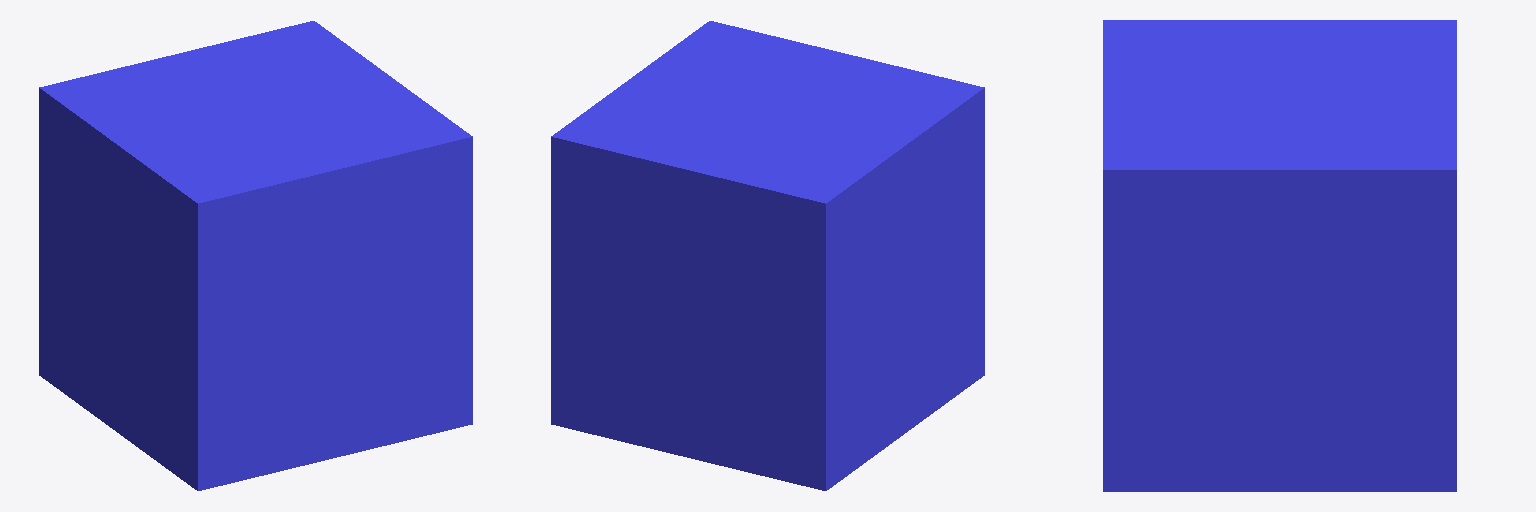
robot.urdf — box.urdf:
<?xml version="0.0" ?>
<robot name="box.urdf">
  <link name="baseLink">
    <contact>
      <lateral_friction value="1.0"/>
      <rolling_friction value="0.0001"/>
      <inertia_scaling value="3.0"/>
    </contact>
    <inertial>
      <origin rpy="0 0 0" xyz="0 0 0"/>
       <mass value=".1"/>
       <inertia ixx="1" ixy="0" ixz="0" iyy="1" iyz="0" izz="1"/>
    </inertial>
    <visual>
      <origin rpy="0 0 0" xyz="0 0 0"/>
      <geometry>
         <box size="0.06 0.06 0.06"/>
      </geometry>
      <material name="green">
        <color rgba="0.3412 0.3490 1 1"/>
      </material>
    </visual>
    <collision>
      <origin rpy="0 0 0" xyz="0 0 0"/>
      <geometry>
	 	    <box size="0.06 0.06 0.06"/>
      </geometry>
    </collision>
  </link>
</robot>

--- Facts derived from the render (not from the file) ---
Views: 3 orthographic renders of the robot side by side, from view 1: azimuth 30°, elevation 25°; view 2: azimuth 150°, elevation 25°; view 3: azimuth 270°, elevation 25°.
Robot: box.urdf — 1 links, 0 joints (none); root link baseLink; default pose: every joint at zero.
Links seen in each view (by area): view 1: baseLink; view 2: baseLink; view 3: baseLink.
Boxes of the visible links, x1=… form: baseLink: x1=39, y1=21, x2=472, y2=490; baseLink: x1=551, y1=21, x2=984, y2=490; baseLink: x1=1103, y1=20, x2=1456, y2=491.
Size in the robot's own frame: 0.06 by 0.06 by 0.06 metres.
Geometry: primitives only (box / cylinder / sphere), no mesh files.